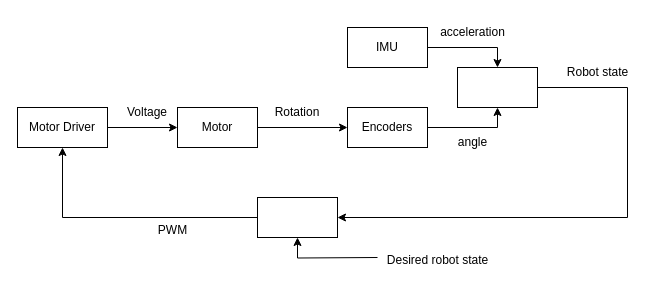
The diagram is 655 pixels wide and 292 high, and some of its shapes have lost their labels. The box of each missing label's shape, as (x1, y1, x2, y2) in pixels:
Controller: (256, 196, 338, 238)
Kalman Filter: (456, 66, 538, 108)
